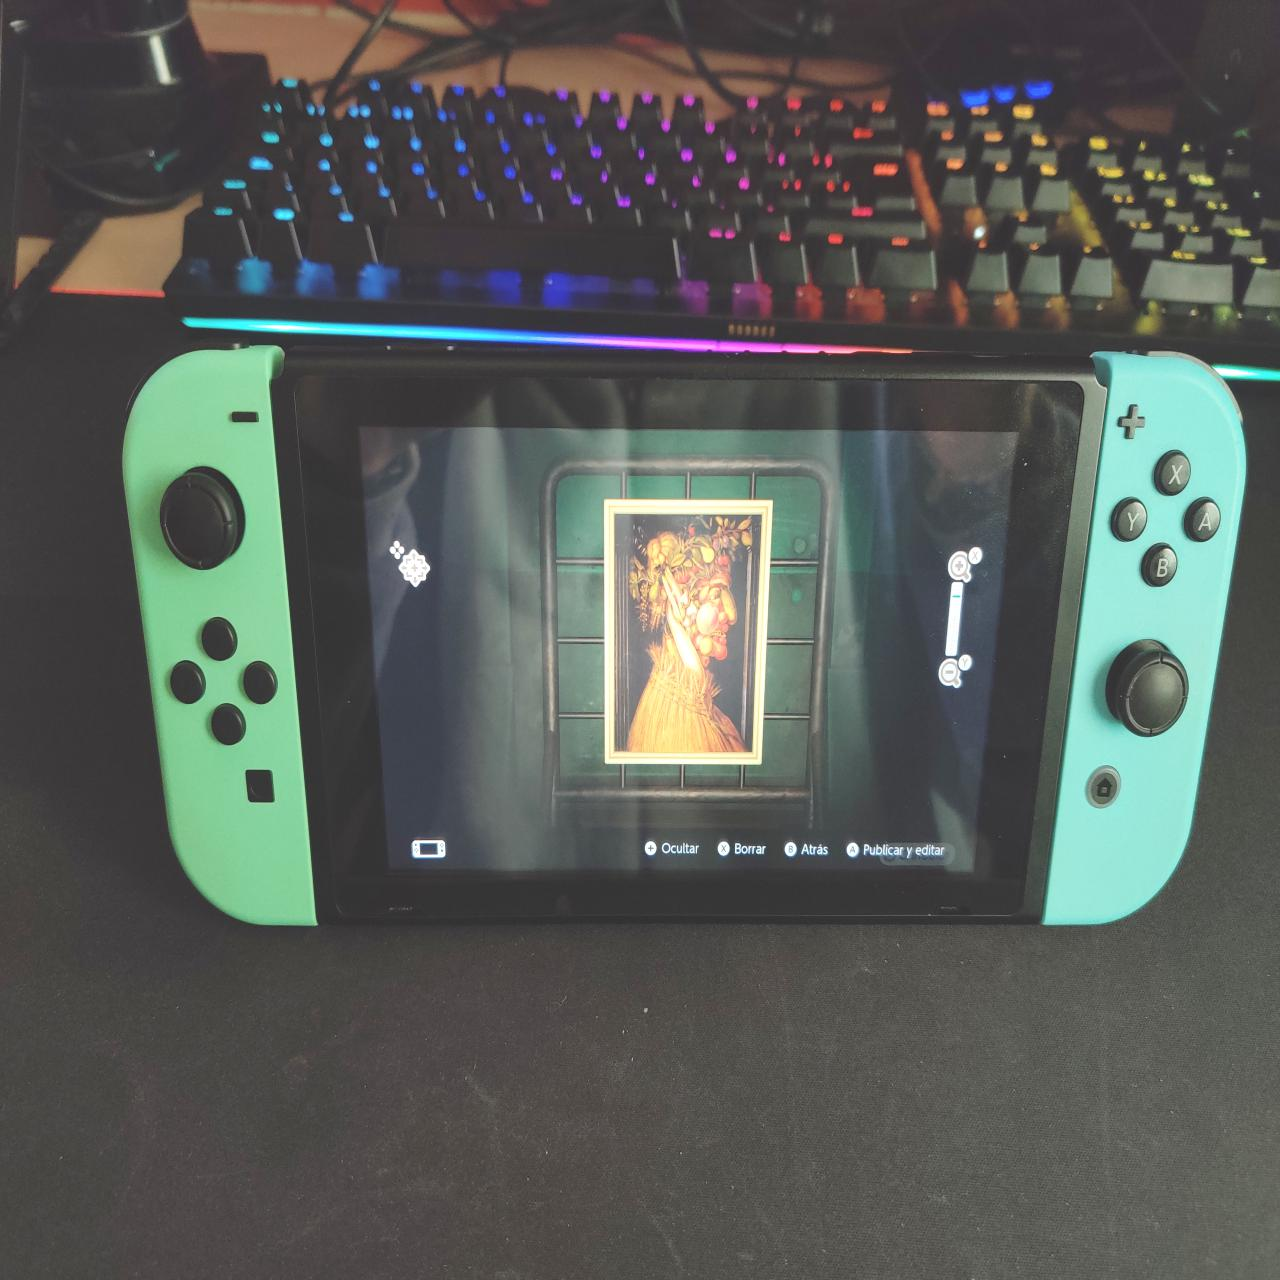SummerFake: (617, 517, 757, 753)
